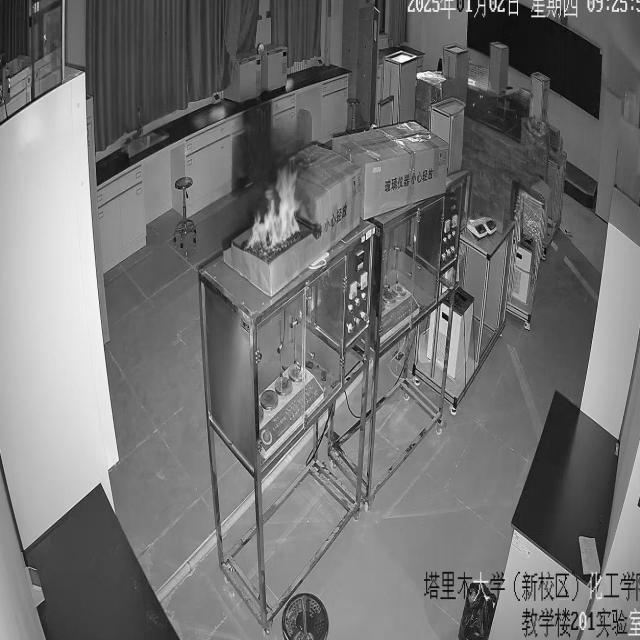smoke: (244, 158, 302, 256)
